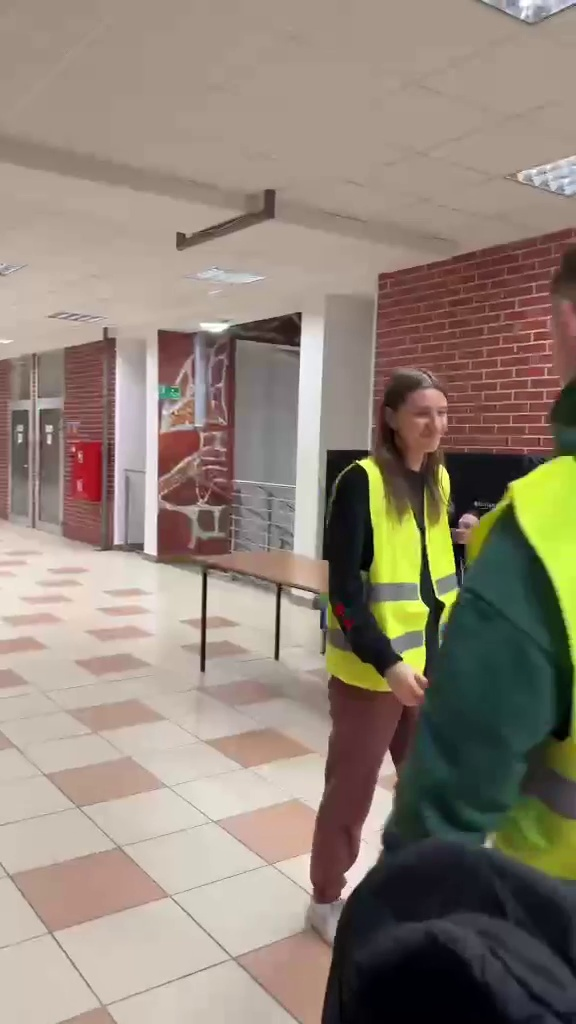vest: (427, 238, 576, 918), (330, 357, 464, 761)
